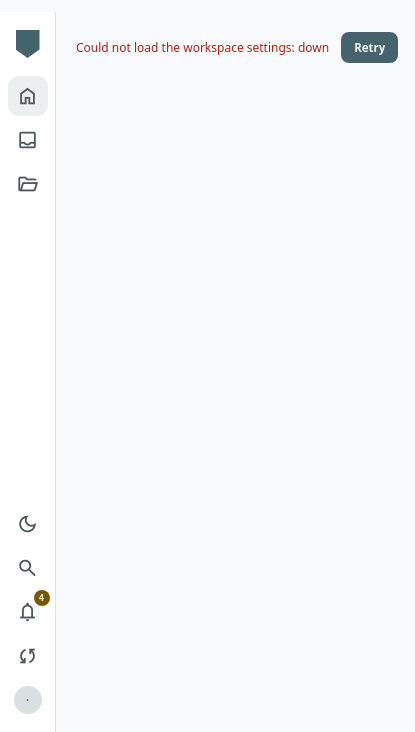
it: a failed shell request shows an error with retry instead of dates in a guessed zone
The width and height of the screenshot is (415, 732).
Expected: the message shows "Could not load the workspace", [76,39,298,56]
Click the button "Retry" at [370, 48], box [341,32,398,63]
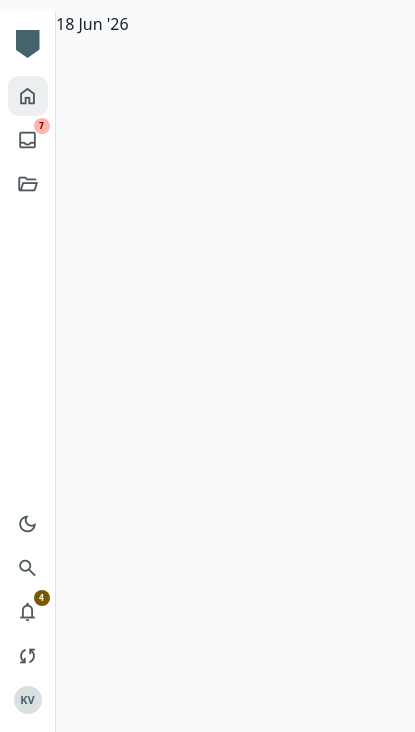
Now the text "18 Jun '26" is shown, box [56,13,129,35]
